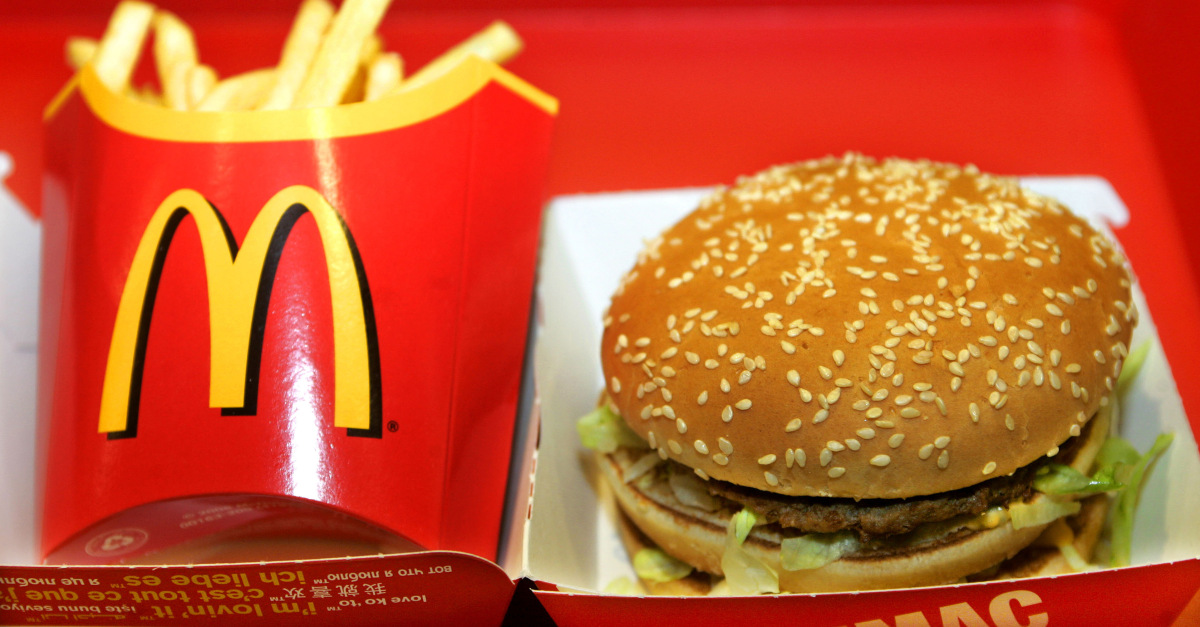mcdonalds: (98, 183, 374, 433)
